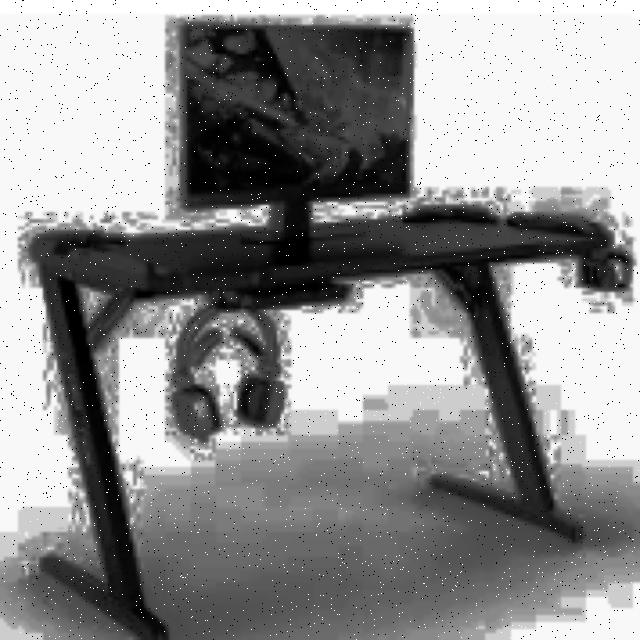table: (32, 205, 633, 640)
